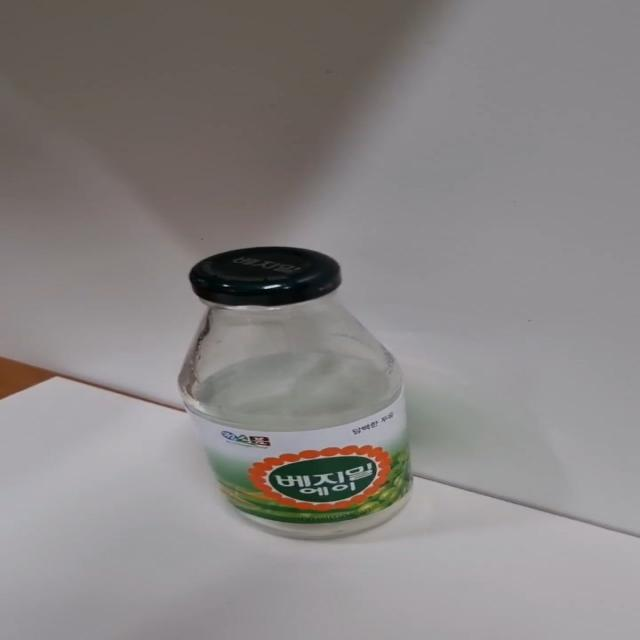Glass: (175, 246, 414, 544)
